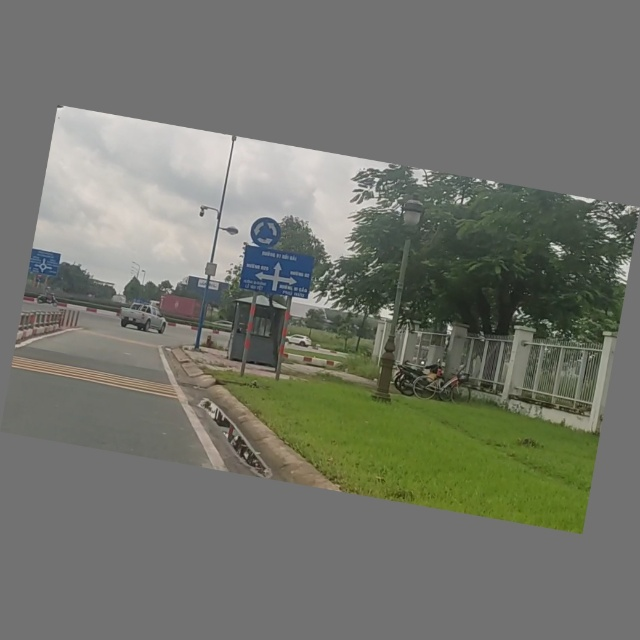R.303: (246, 213, 285, 252)
